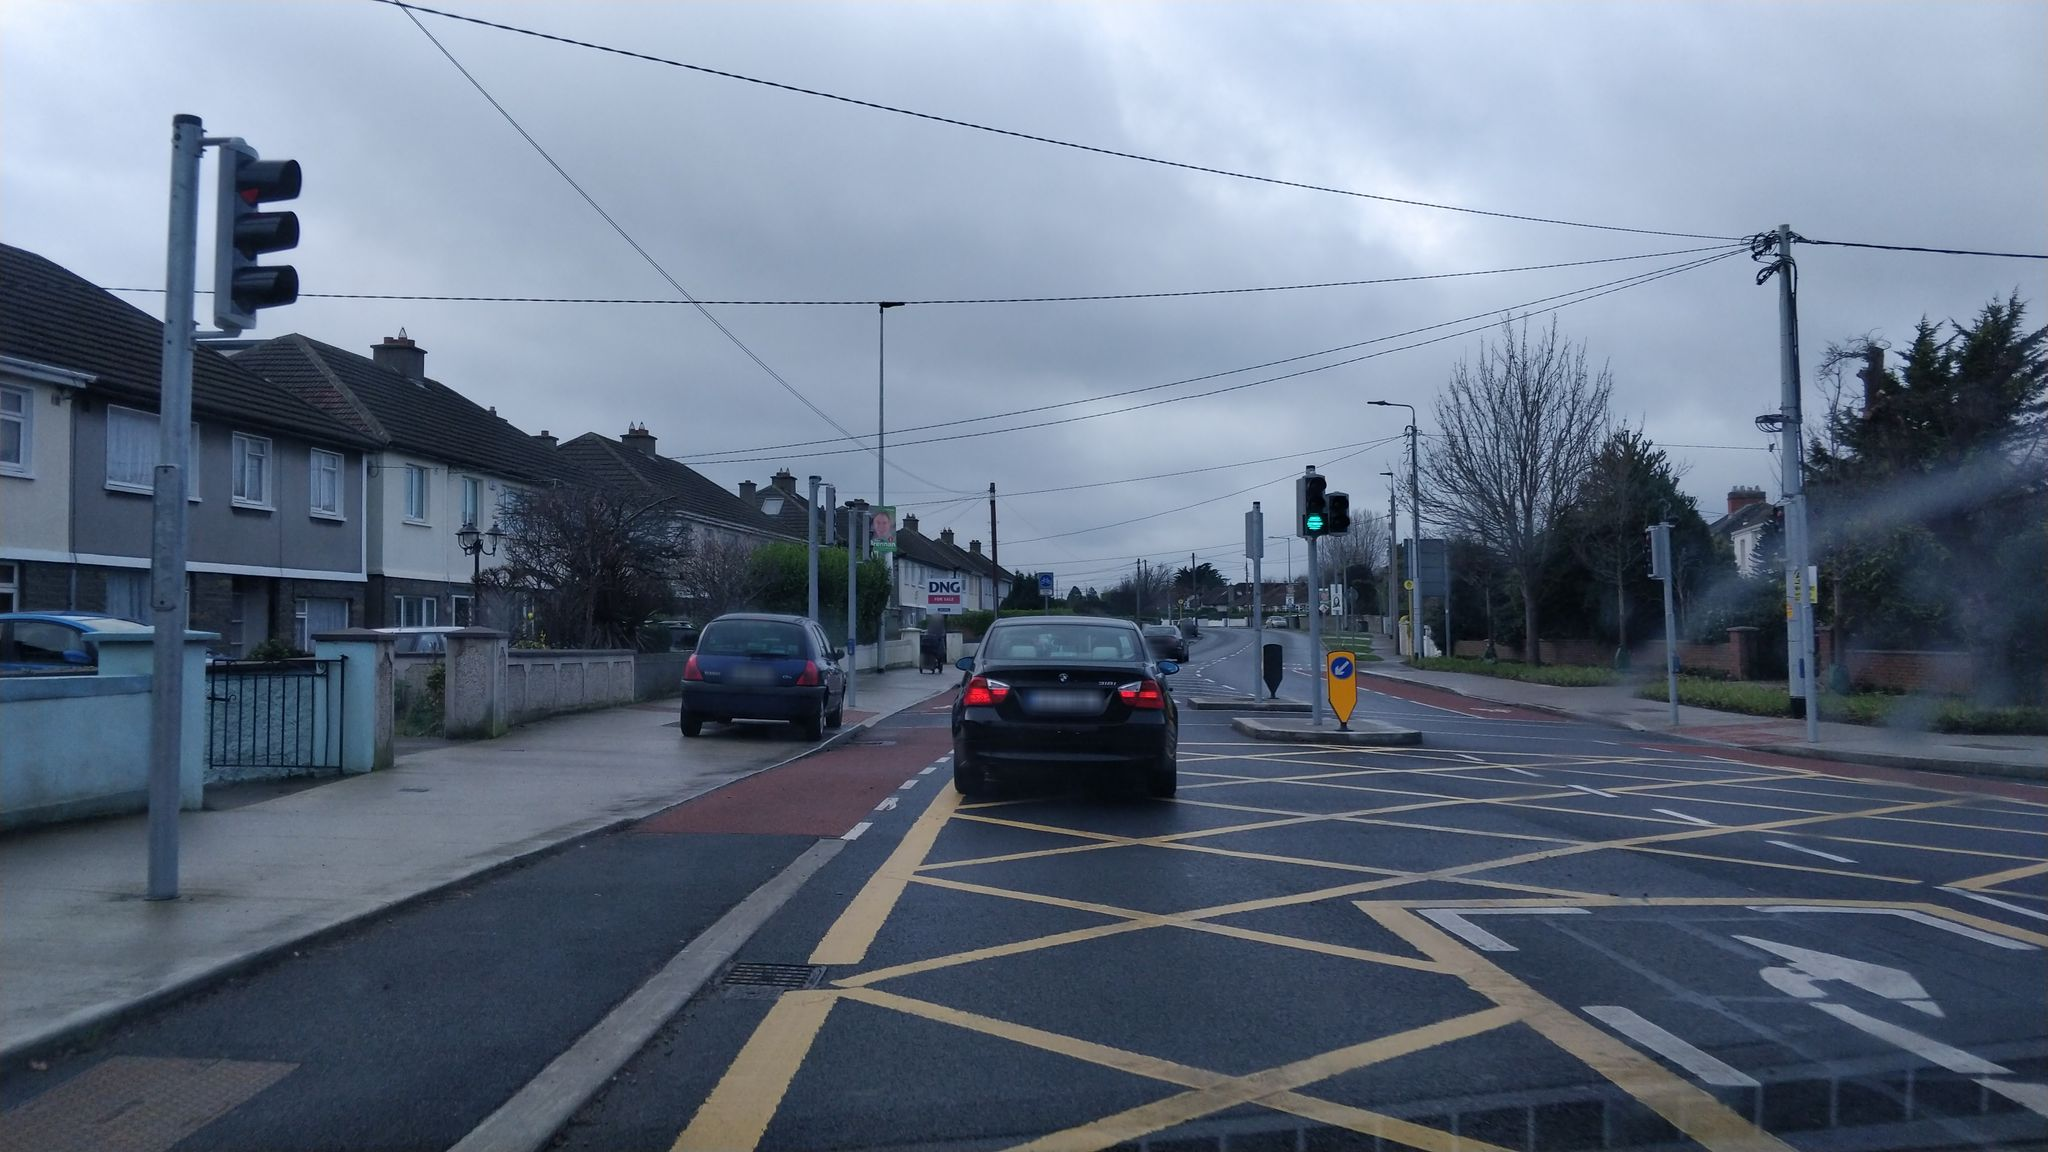property sign: (923, 572, 971, 625)
